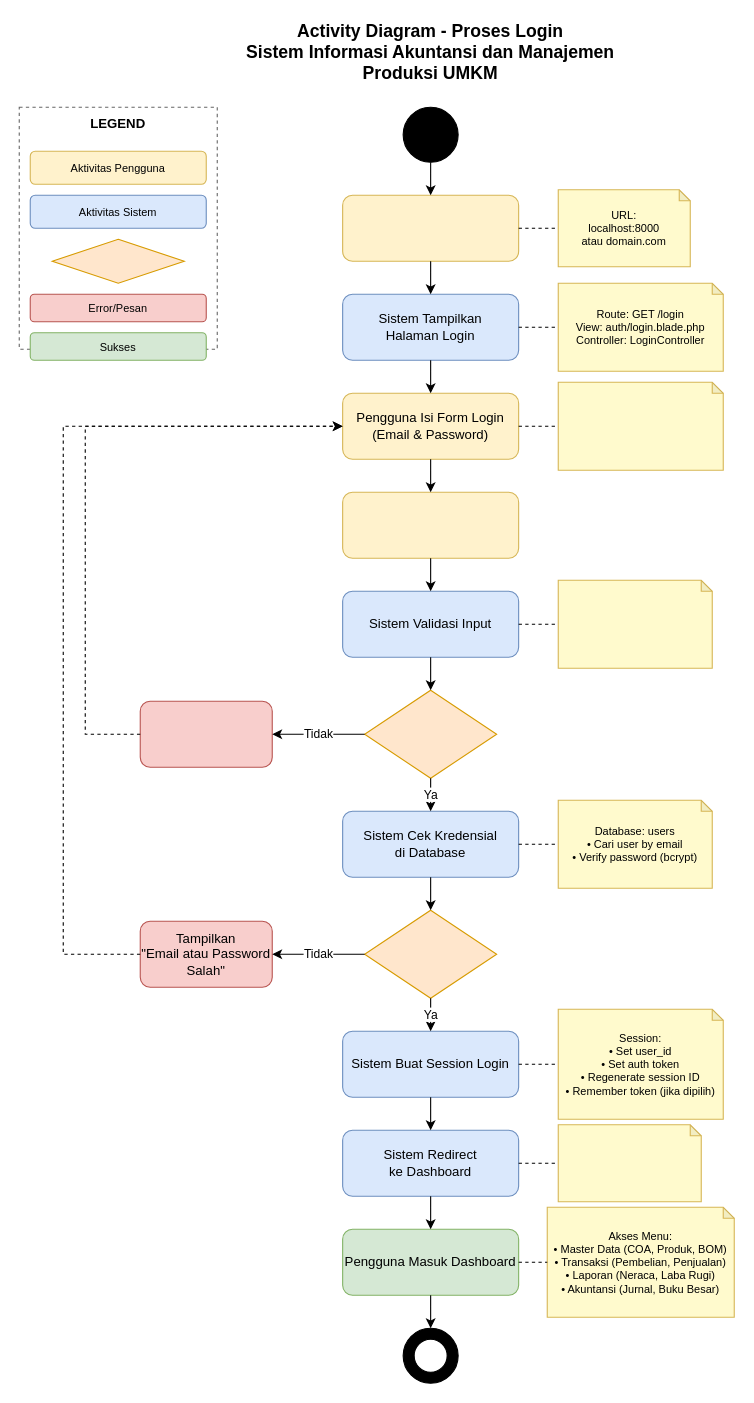
Image size: 754x1403. Some labels were removed from this diagram. The shapes that lost their labels are listed below. From the top down, each one's centre as x and y in pixels, then its label:
At pixel 430 227: "Pengguna Membuka Website".
At pixel 117 260: "Decision Point".
At pixel 640 425: "Input: • Email/Username • Password • Remember Me (opsional)".
At pixel 430 524: "Pengguna Klik Tombol Login".
At pixel 634 623: "Validasi: • Format email valid • Password tidak kosong • CSRF token valid".
At pixel 205 733: "Tampilkan Pesan Error Validasi".
At pixel 430 733: "Input Valid?".
At pixel 430 953: "Kredensial Benar?".
At pixel 629 1163: "Route: GET /dashboard Middleware: auth".
